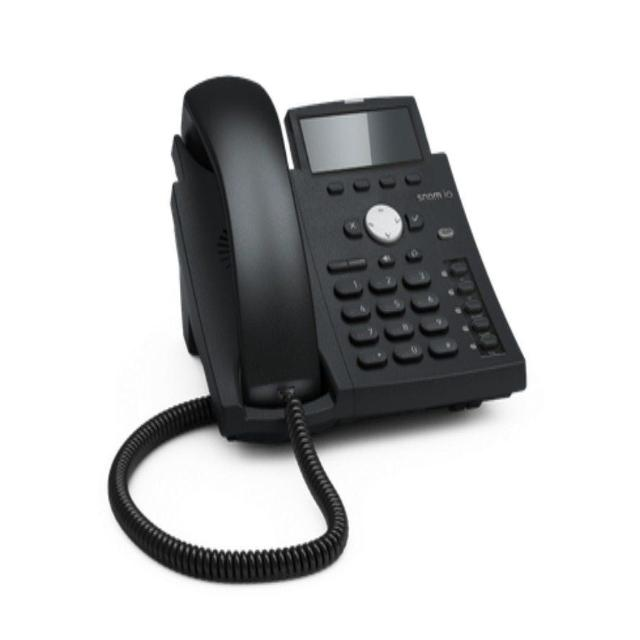Telephone-Set: (138, 48, 550, 430)
